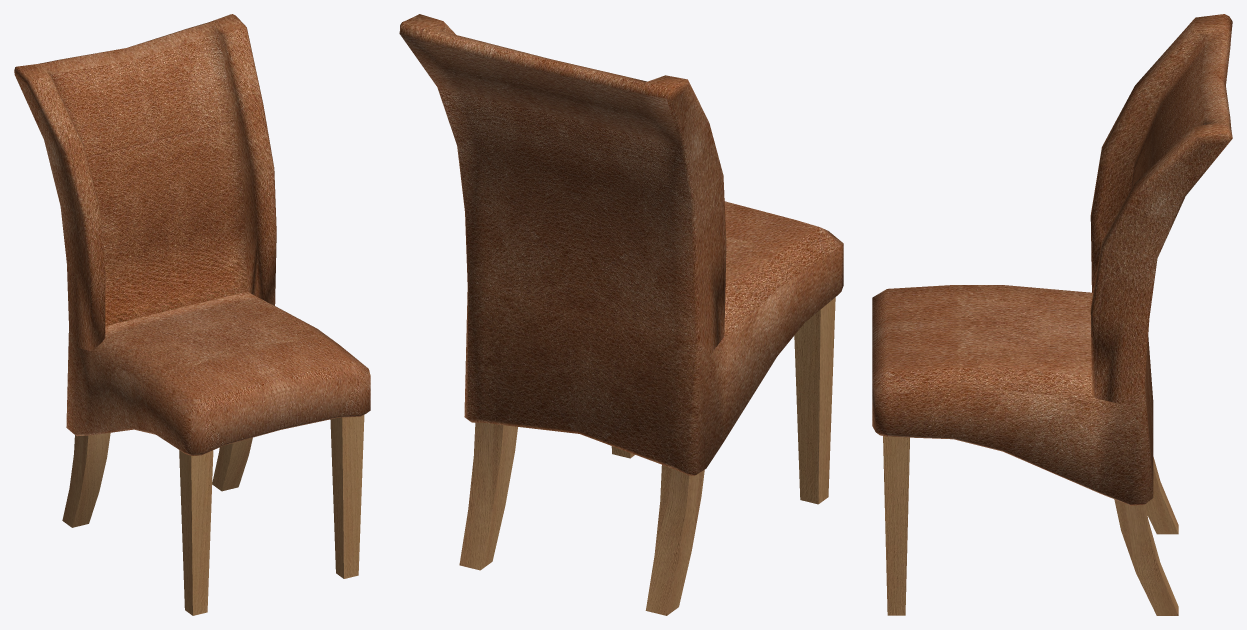
The model's file is Arm Chair_A.DAE.
3 renders of one model, left to right at view 1: azimuth 30°, elevation 25°; view 2: azimuth 150°, elevation 25°; view 3: azimuth 270°, elevation 25°, orthographic. The views are drawn at different scales.
Parts seen in each view (by area): view 1: Arm_Chair_A; view 2: Arm_Chair_A; view 3: Arm_Chair_A.
Boxes of the visible parts, x1,y1,x2,y2 form: Arm_Chair_A: (14, 14, 370, 615); Arm_Chair_A: (399, 14, 843, 615); Arm_Chair_A: (872, 14, 1232, 615).
Size of the model in its own units: 0.5685 by 0.7223 by 1.1.
1 material, 1 textured.
